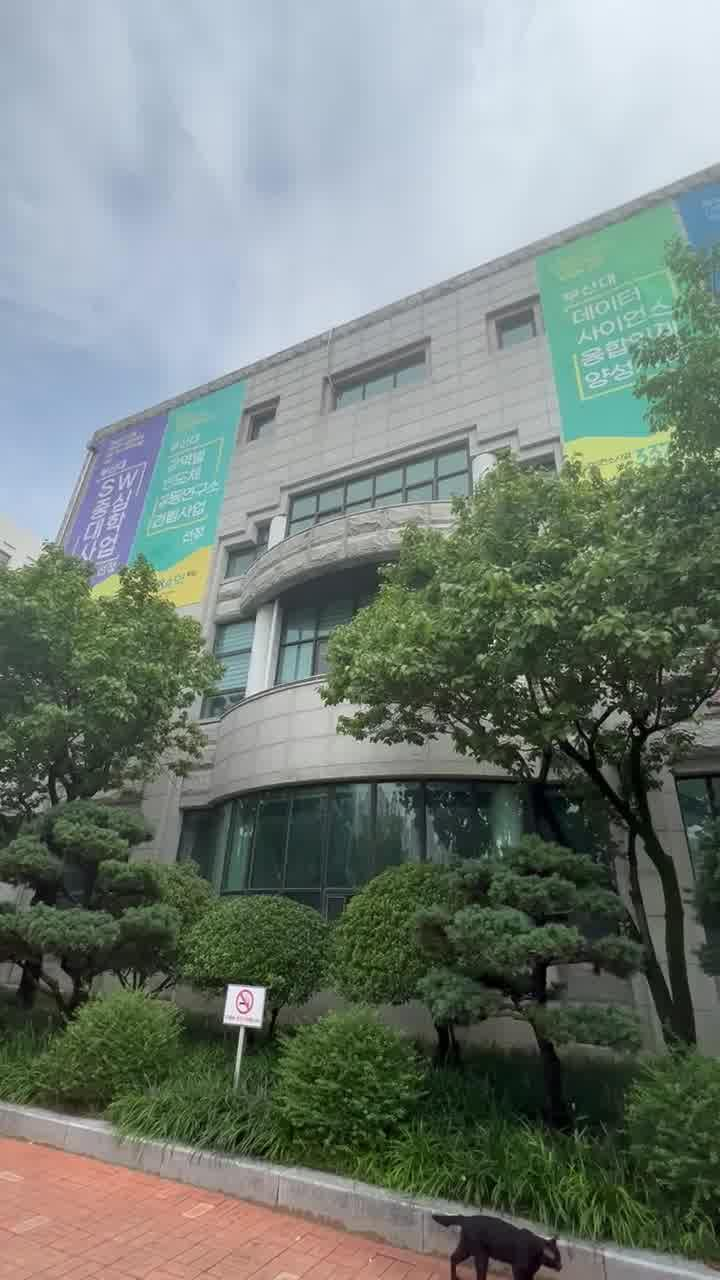building: (192, 330, 436, 764)
